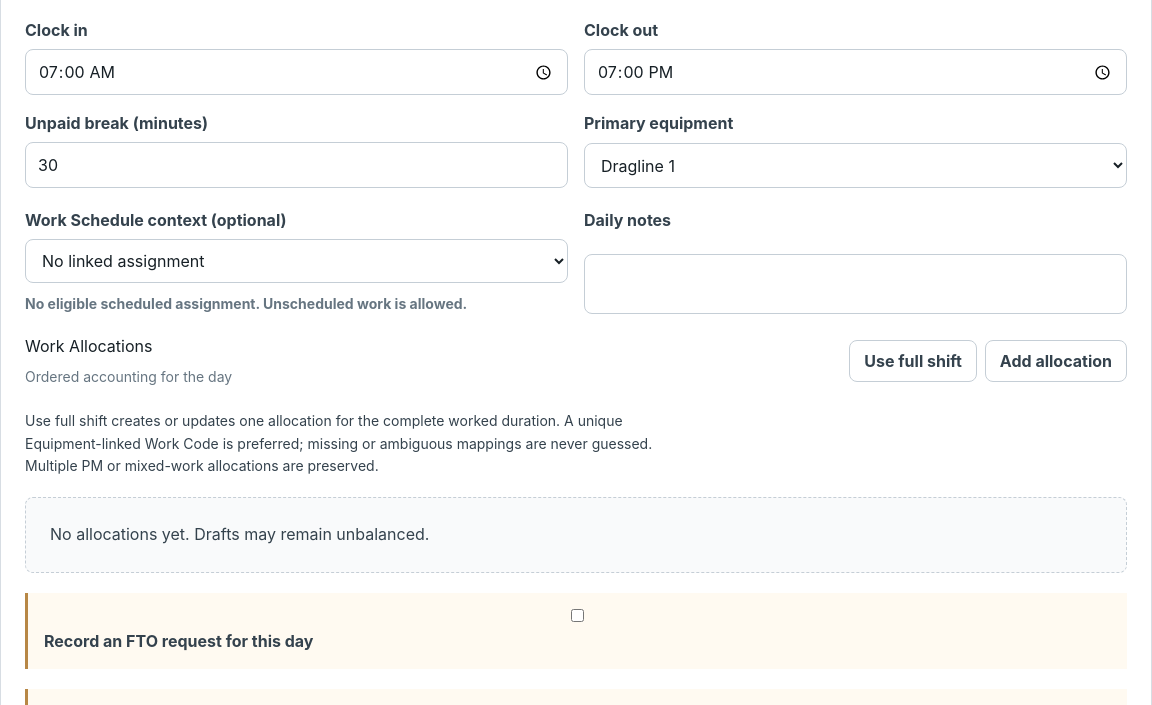
TimesheetForm › uses the complete worked duration for one Equipment-linked allocation
(page scrolled)
Click the button "Use full shift" at (913, 361), box [849,340,977,382]
(page scrolled)
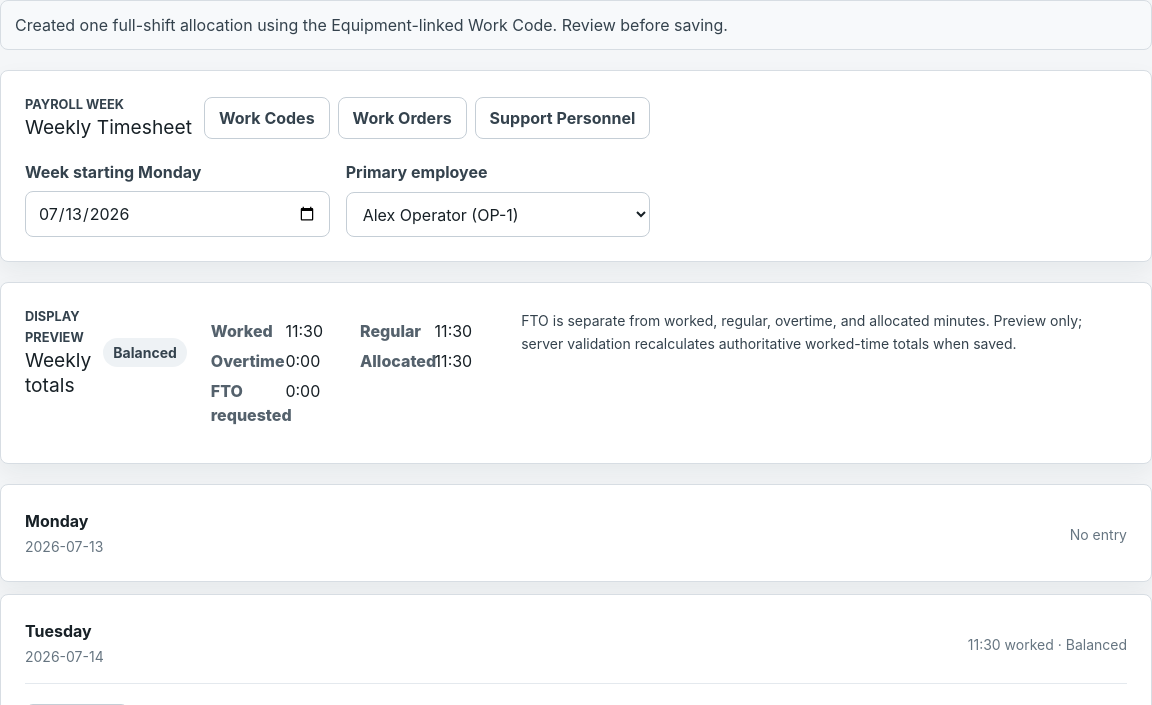
Expected: the message shows "Created one full-shift allocation using the Equipment-linked Work Code", [15,15,728,35]
